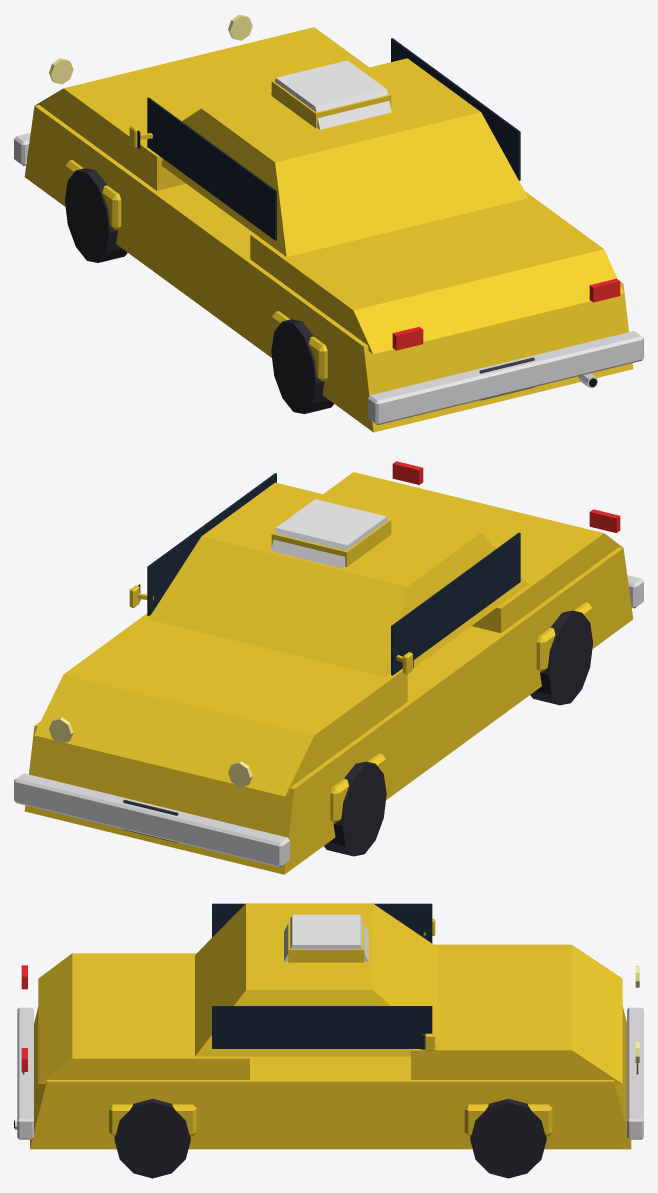
Rendered from nyc_yellow_taxi.fbx.
3 views of the same model, one above another, from view 1: azimuth 30°, elevation 25°; view 2: azimuth 150°, elevation 25°; view 3: azimuth 270°, elevation 25° (orthographic). The views are drawn at different scales.
Parts seen in each view (by area): view 1: nyc_yellow_taxi; view 2: nyc_yellow_taxi; view 3: nyc_yellow_taxi.
Part boxes in pixels (x1,y1,x2,y2): nyc_yellow_taxi: [14, 14, 643, 432]; nyc_yellow_taxi: [14, 461, 643, 874]; nyc_yellow_taxi: [14, 903, 643, 1178].
Size of the model in its own units: 660 by 500 by 1500.
